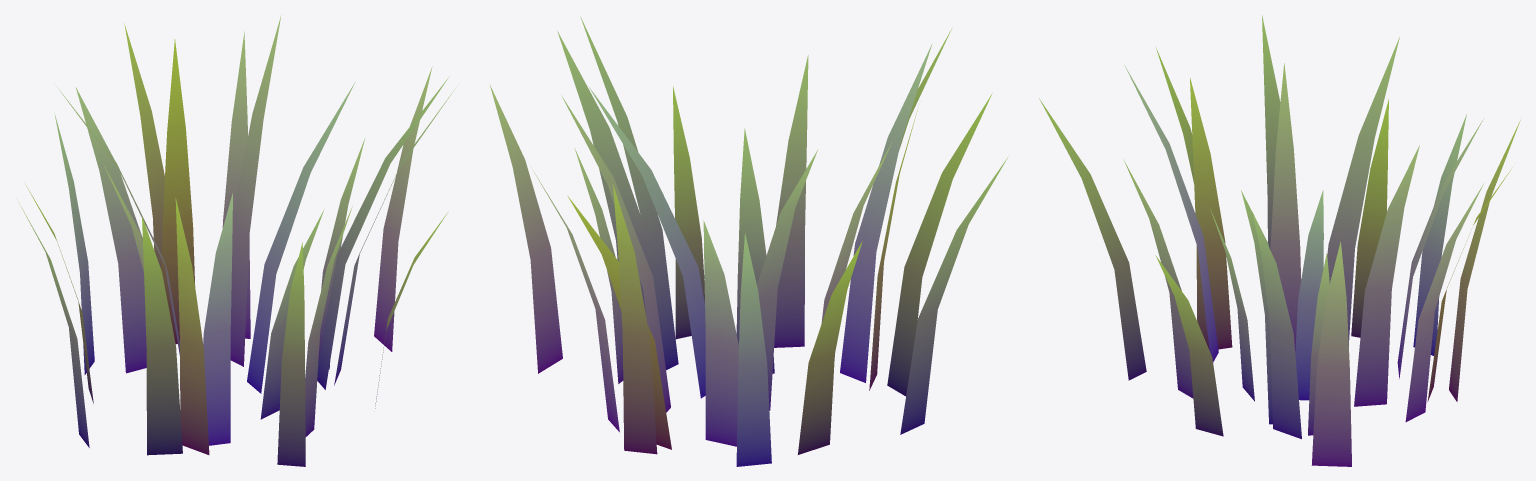
The model's file is grass_tall.glb.
The picture shows the model from 3 angles, left to right: view 1: azimuth 30°, elevation 25°; view 2: azimuth 150°, elevation 25°; view 3: azimuth 270°, elevation 25°; orthographic projection. The views are drawn at different scales.
Parts seen in each view (by area): view 1: grass_tall; view 2: grass_tall; view 3: grass_tall.
Part boxes in pixels (left/top/right/bottom): grass_tall: left=16, top=15, right=455, bottom=466; grass_tall: left=489, top=16, right=1007, bottom=466; grass_tall: left=1039, top=15, right=1520, bottom=466.
Bounding box in the file's own units: 0.6621 × 0.427 × 0.6316.
